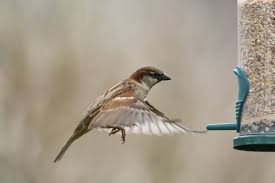hsparrow: (49, 63, 209, 182)
